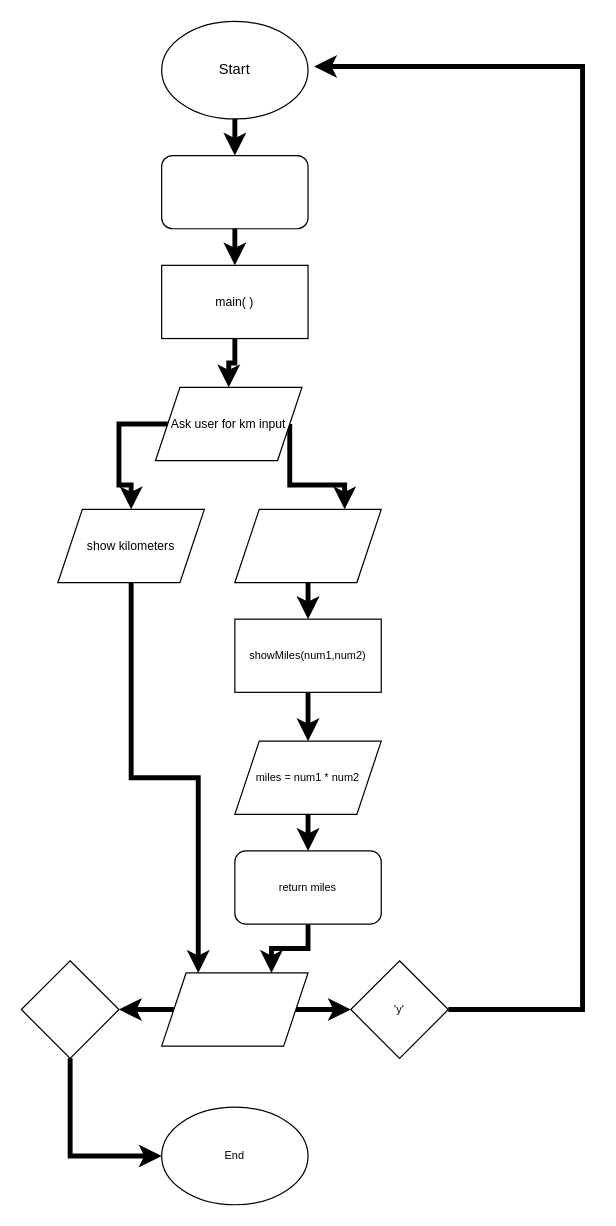
Image size: 616x1226. Some labels were removed from this diagram. Here are the shapes that lost their labels. From the top down, the box of each, then its label:
(160, 154, 308, 229): converter = .6214
(234, 508, 381, 583): show miles
(20, 960, 119, 1058): 'n'
(160, 972, 308, 1046): ask if user wants to do it again
